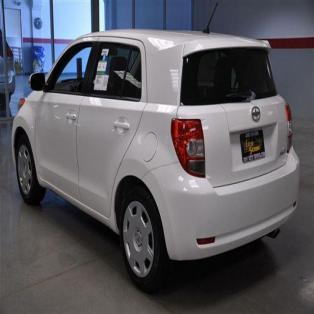Auto: (9, 27, 302, 290)
